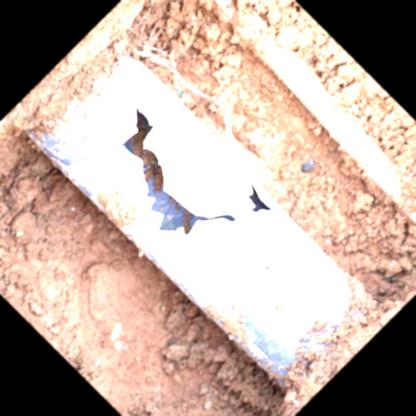burst: (111, 106, 240, 264), (247, 174, 273, 222)
